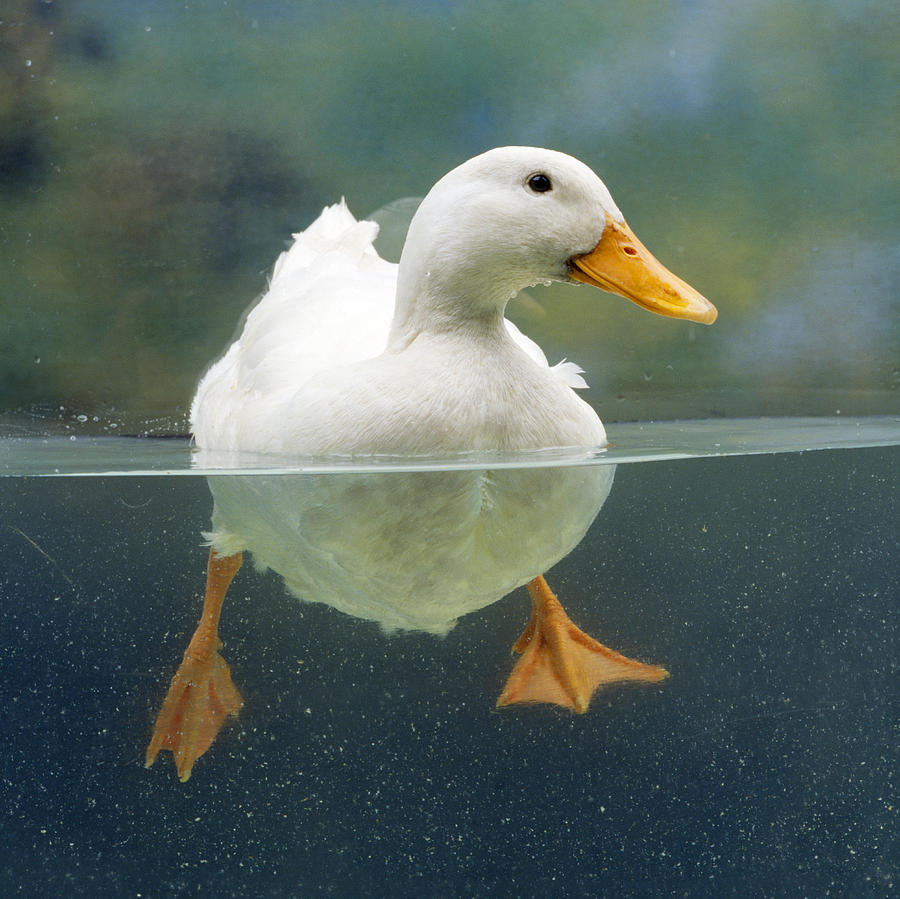Mencari Makan di Lumpur: (579, 216, 725, 334)
